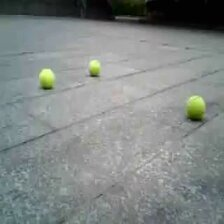tennis: (186, 96, 205, 119), (38, 68, 55, 88), (88, 60, 102, 77)
